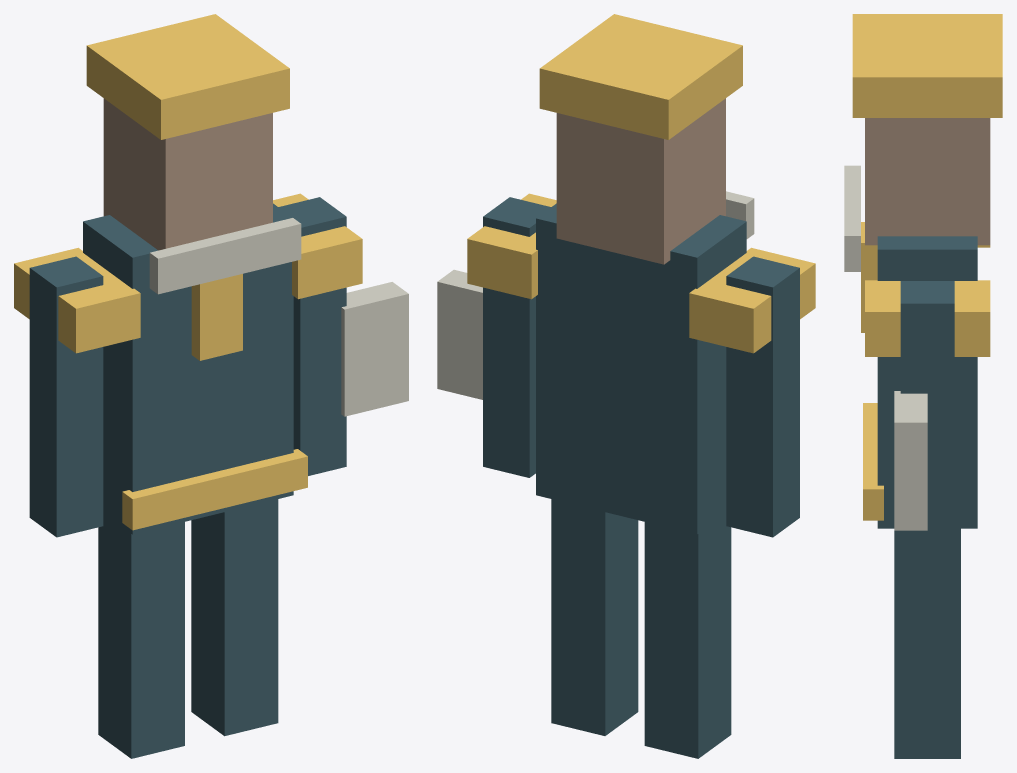
The model's file is 16_calder_gantryn_engineer_near.glb.
3 renders of one model, left to right at view 1: azimuth 30°, elevation 25°; view 2: azimuth 150°, elevation 25°; view 3: azimuth 270°, elevation 25°, orthographic.
Visible parts, largest first — view 1: Calder Gantryn, Engineer near; view 2: Calder Gantryn, Engineer near; view 3: Calder Gantryn, Engineer near.
Boxes of the visible parts, left/top/right/bottom form: Calder Gantryn, Engineer near: left=14, top=14, right=408, bottom=758; Calder Gantryn, Engineer near: left=437, top=14, right=815, bottom=758; Calder Gantryn, Engineer near: left=844, top=14, right=1002, bottom=758.
Bounding box in the file's own units: 0.907 × 1.67 × 0.3535.
